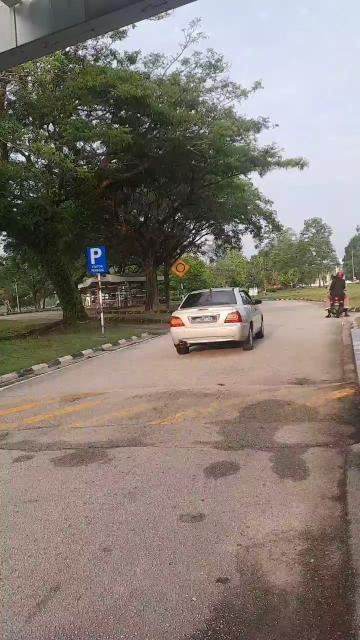car: (172, 285, 267, 358)
